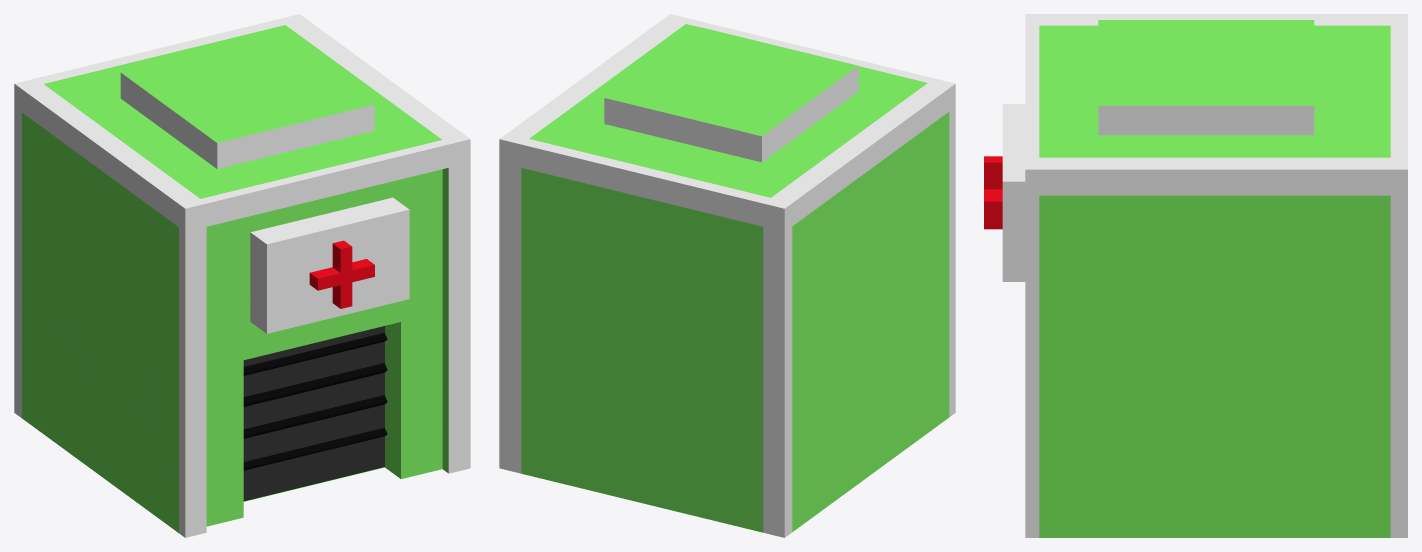
3 views of the same model, side by side, from view 1: azimuth 30°, elevation 25°; view 2: azimuth 150°, elevation 25°; view 3: azimuth 270°, elevation 25° (orthographic). The views are drawn at different scales.
Visible parts, largest first — view 1: Base4, Portón; view 2: Base4; view 3: Base4.
Boxes of the visible parts, x1,y1,x2,y2 form: Base4: [14, 14, 470, 537]; Portón: [243, 326, 387, 501]; Base4: [499, 14, 955, 537]; Base4: [984, 14, 1407, 537].
Bounding box in the file's own units: 200 × 238 × 230.
